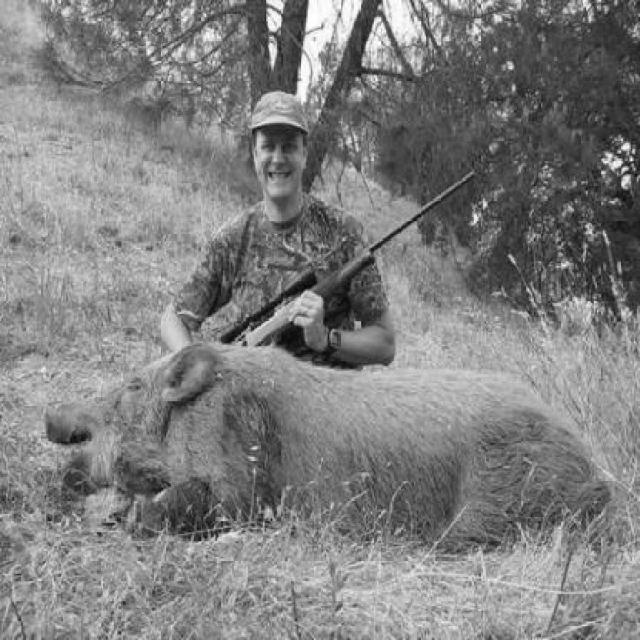Boar: (37, 315, 615, 611)
